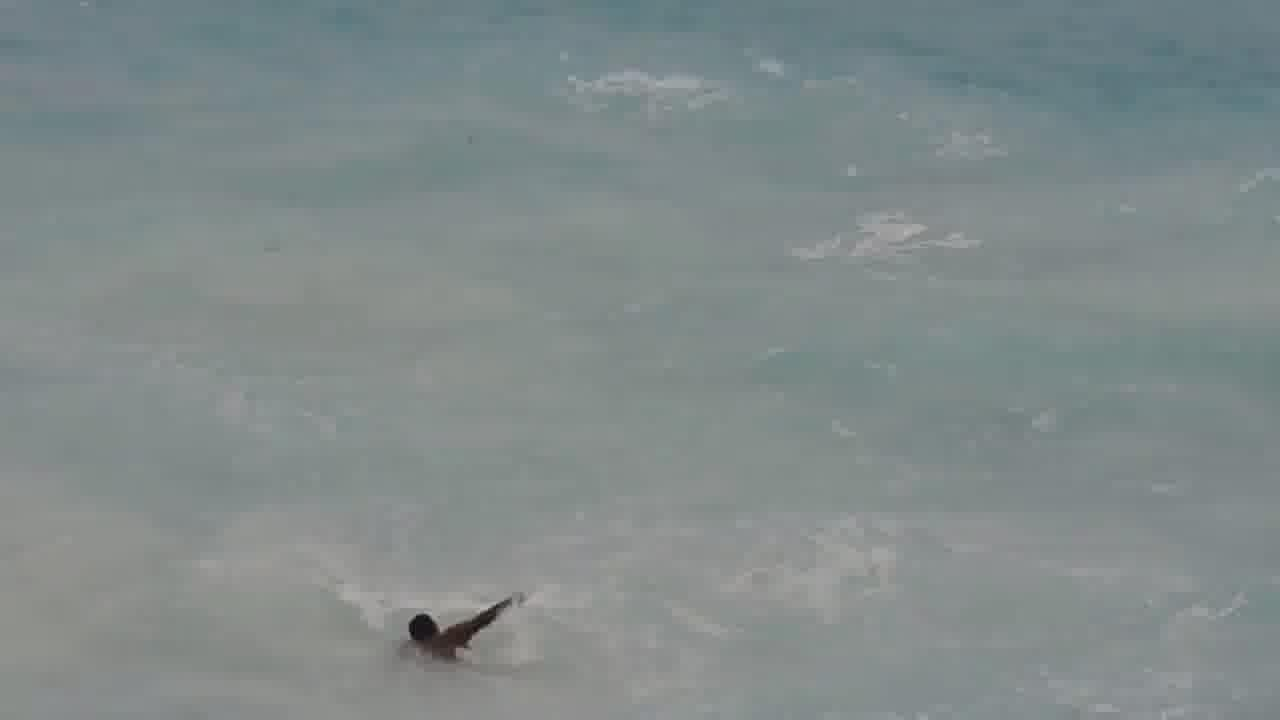swimmer: (402, 591, 471, 663)
